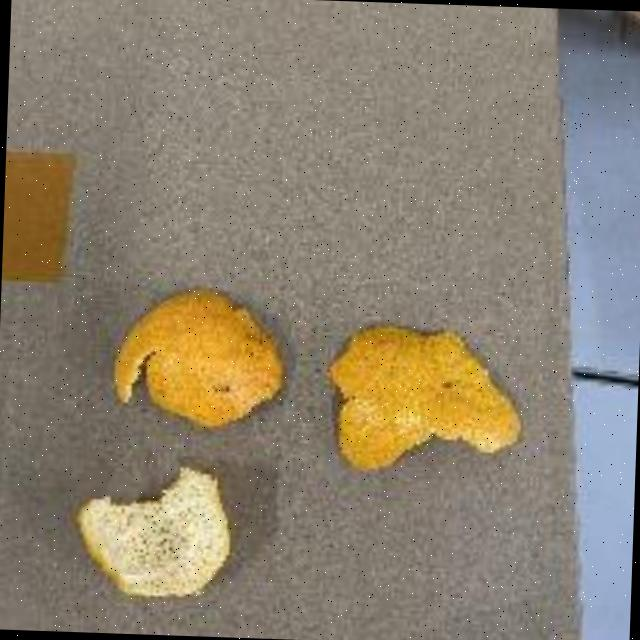orange-peel: (109, 281, 288, 432)
